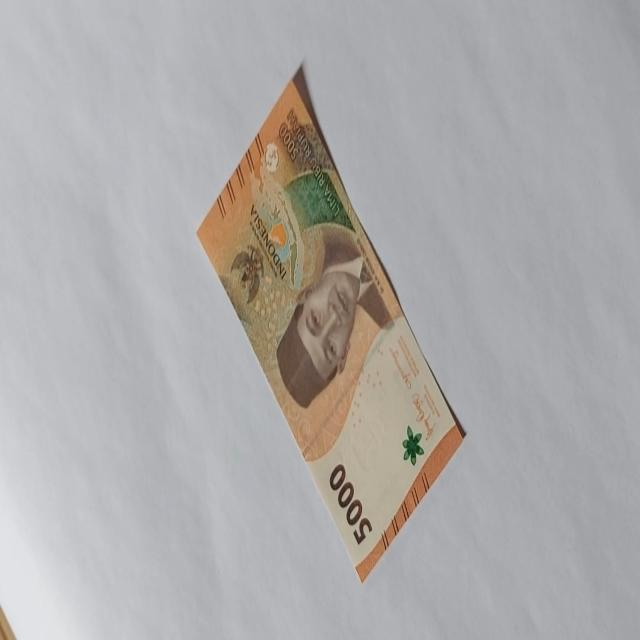lima ribu rupiah: (196, 61, 467, 584)
